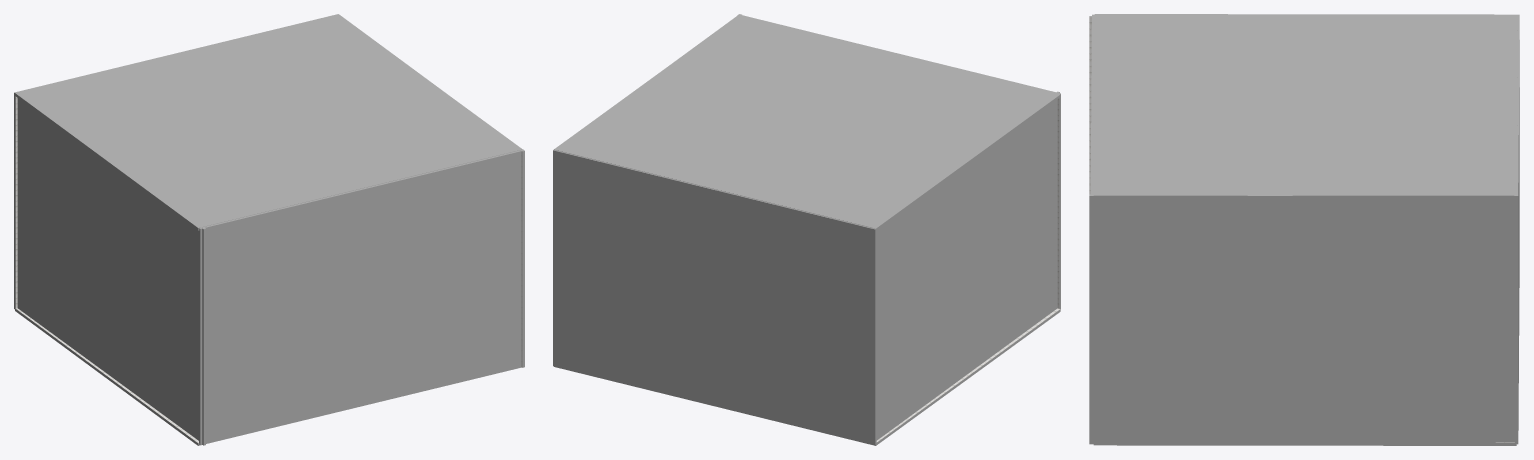
The model's file is Loft_07.gltf.
The picture shows the model from 3 angles, left to right: view 1: azimuth 30°, elevation 25°; view 2: azimuth 150°, elevation 25°; view 3: azimuth 270°, elevation 25°; orthographic projection. The views are drawn at different scales.
Parts seen in each view (by area): view 1: pCube7; view 2: pCube7; view 3: pCube7.
Boxes of the visible parts, x1,y1,x2,y2 form: pCube7: (14, 14, 524, 445); pCube7: (553, 14, 1060, 445); pCube7: (1089, 14, 1519, 445).
Size of the model in its own units: 4.36 by 2.79 by 4.36.
2 materials, 1 textured.
